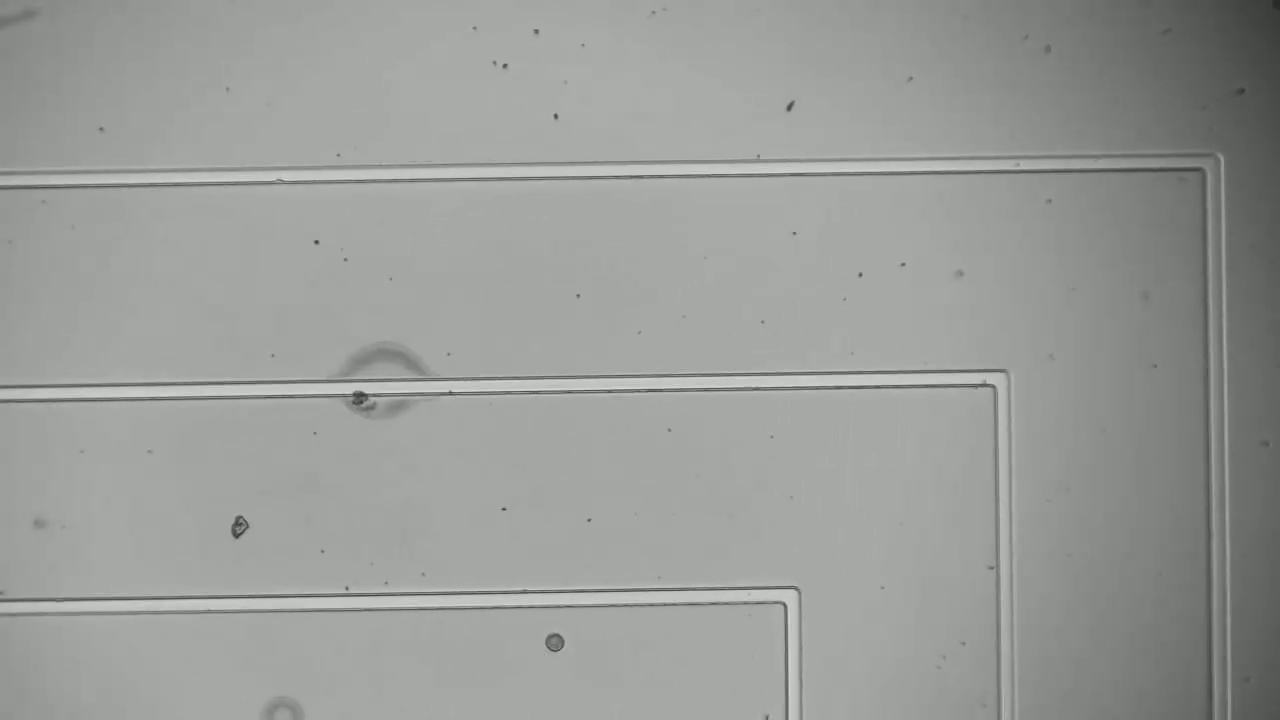stains_enbedded: (345, 371, 382, 414)
